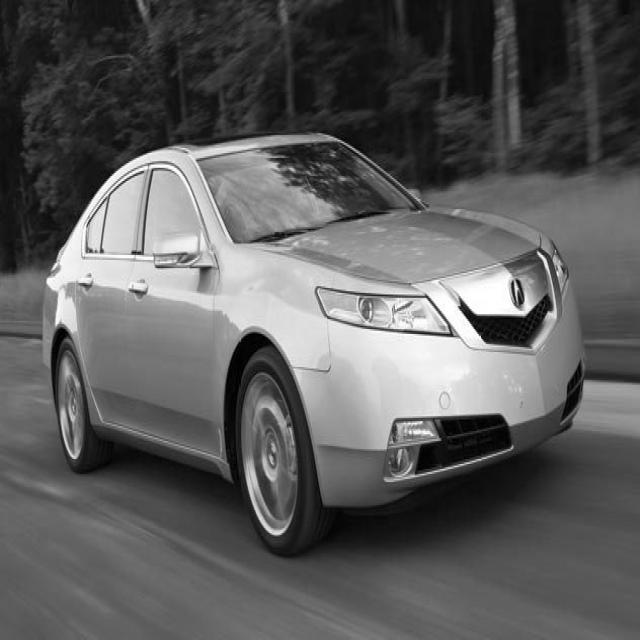car: (41, 130, 586, 556)
